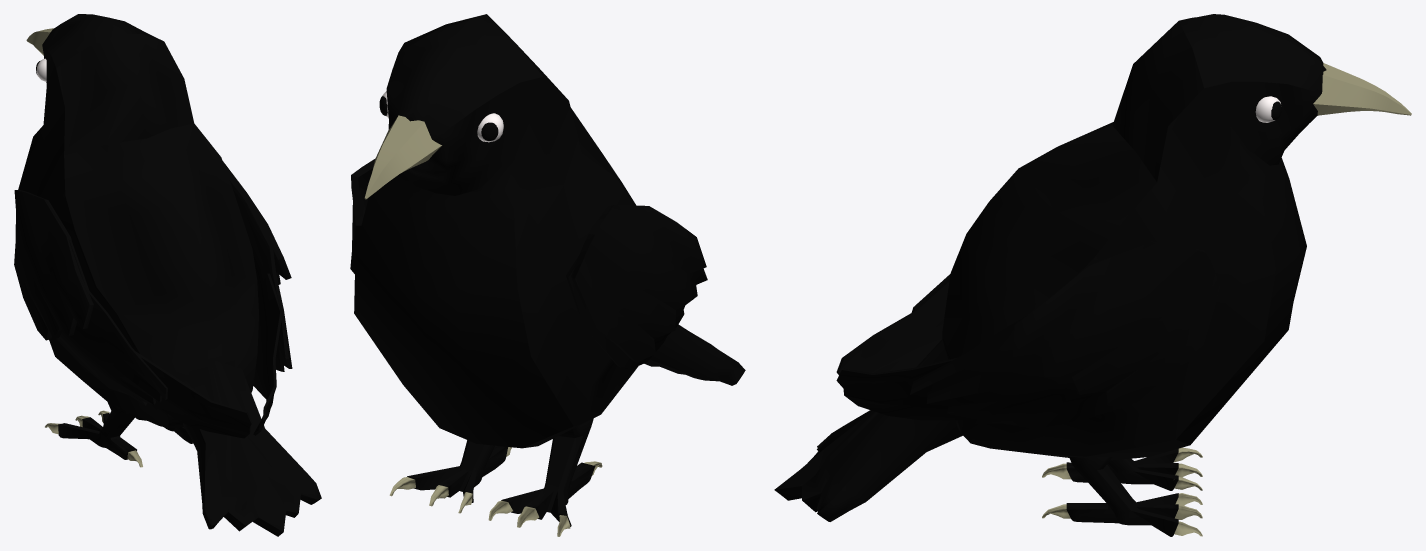
File: crow.fbx
3 renders of one model, left to right at view 1: azimuth 30°, elevation 25°; view 2: azimuth 150°, elevation 25°; view 3: azimuth 270°, elevation 25°, orthographic. The views are drawn at different scales.
Parts seen in each view (by area): view 1: Crow.Body, Crow.Tail, Crow.Wing.001, Crow.Wing.002, Crow.Wing.003, Crow.Leg.Left; view 2: Crow.Body, Crow.Wing.001, Crow.Leg.Left, Crow.Leg.Right, Crow.Tail, Crow.Beack, Crow.Wing.002, Crow.Eye.Left; view 3: Crow.Body, Crow.Wing.001, Crow.Wing.002, Crow.Tail, Crow.Wing.003, Crow.Leg.Right, Crow.Leg.Left, Crow.Beack.
Boxes of the visible parts, x1=… form: Crow.Body: x1=18, y1=14, x2=258, y2=427; Crow.Tail: x1=182, y1=361, x2=321, y2=536; Crow.Wing.001: x1=14, y1=161, x2=291, y2=340; Crow.Wing.002: x1=56, y1=190, x2=292, y2=405; Crow.Wing.003: x1=136, y1=273, x2=281, y2=438; Crow.Leg.Left: x1=45, y1=401, x2=142, y2=467; Crow.Body: x1=354, y1=14, x2=638, y2=448; Crow.Wing.001: x1=350, y1=158, x2=706, y2=362; Crow.Leg.Left: x1=488, y1=418, x2=602, y2=536; Crow.Leg.Right: x1=389, y1=440, x2=511, y2=513; Crow.Tail: x1=644, y1=324, x2=745, y2=385; Crow.Beack: x1=364, y1=115, x2=441, y2=199; Crow.Wing.002: x1=359, y1=185, x2=707, y2=367; Crow.Eye.Left: x1=477, y1=113, x2=503, y2=142; Crow.Body: x1=942, y1=14, x2=1326, y2=460; Crow.Wing.001: x1=1013, y1=241, x2=1220, y2=405; Crow.Wing.002: x1=910, y1=269, x2=1134, y2=428; Crow.Tail: x1=774, y1=339, x2=962, y2=521; Crow.Wing.003: x1=836, y1=280, x2=975, y2=420; Crow.Leg.Right: x1=1042, y1=456, x2=1202, y2=536; Crow.Leg.Left: x1=1042, y1=447, x2=1202, y2=490; Crow.Beack: x1=1313, y1=63, x2=1411, y2=115.
Bounding box in the file's own units: 71.6 × 126 × 149.
